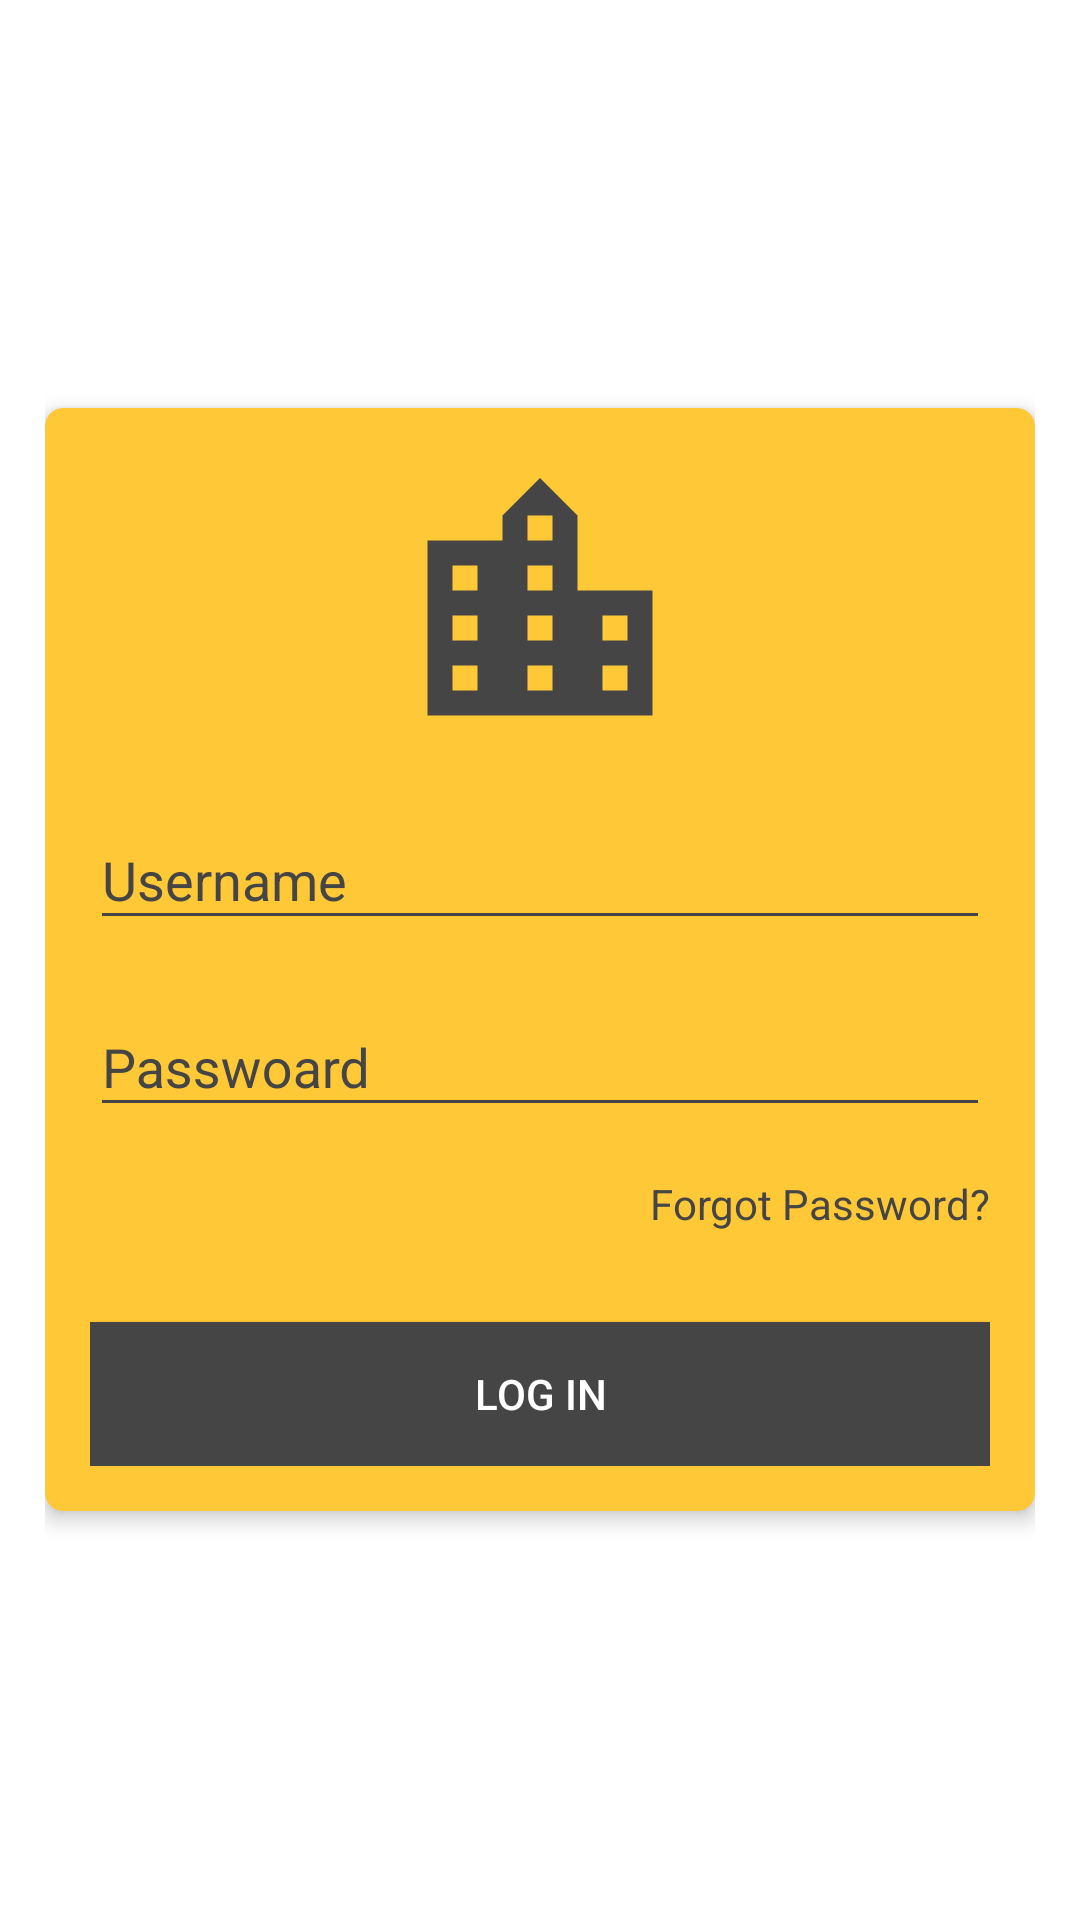

Locate icon controls on the screen. Image size 1080×1920, boxes as bbox=(x1, y1, x2, y2).
location city: bbox=(427, 478, 653, 716)
